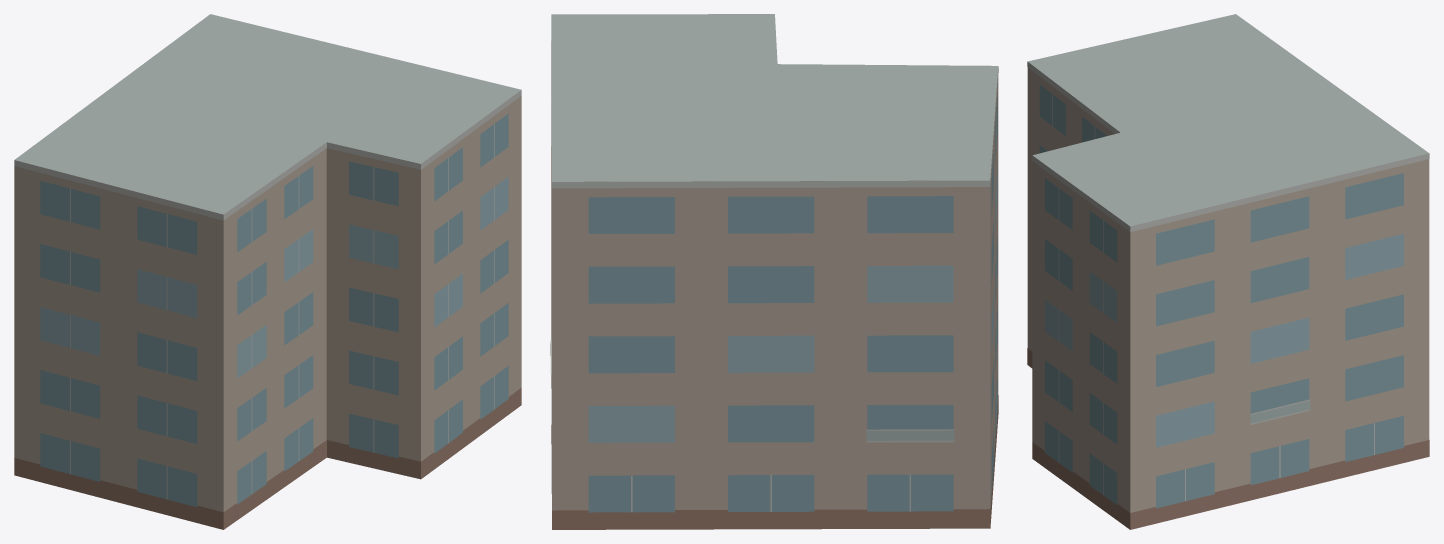
The model's file is survey-upis-32550549.glb.
The picture shows the model from 3 angles, left to right: view 1: azimuth 30°, elevation 25°; view 2: azimuth 150°, elevation 25°; view 3: azimuth 270°, elevation 25°; orthographic projection. The views are drawn at different scales.
Parts seen in each view (by area): view 1: survey-upis-32550549.tmp; view 2: survey-upis-32550549.tmp; view 3: survey-upis-32550549.tmp.
Part boxes in pixels (x1,y1,x2,y2): survey-upis-32550549.tmp: [14, 14, 521, 529]; survey-upis-32550549.tmp: [550, 14, 998, 529]; survey-upis-32550549.tmp: [1027, 14, 1429, 529].
Bounding box in the file's own units: 19.69 × 13.1 × 15.74.
